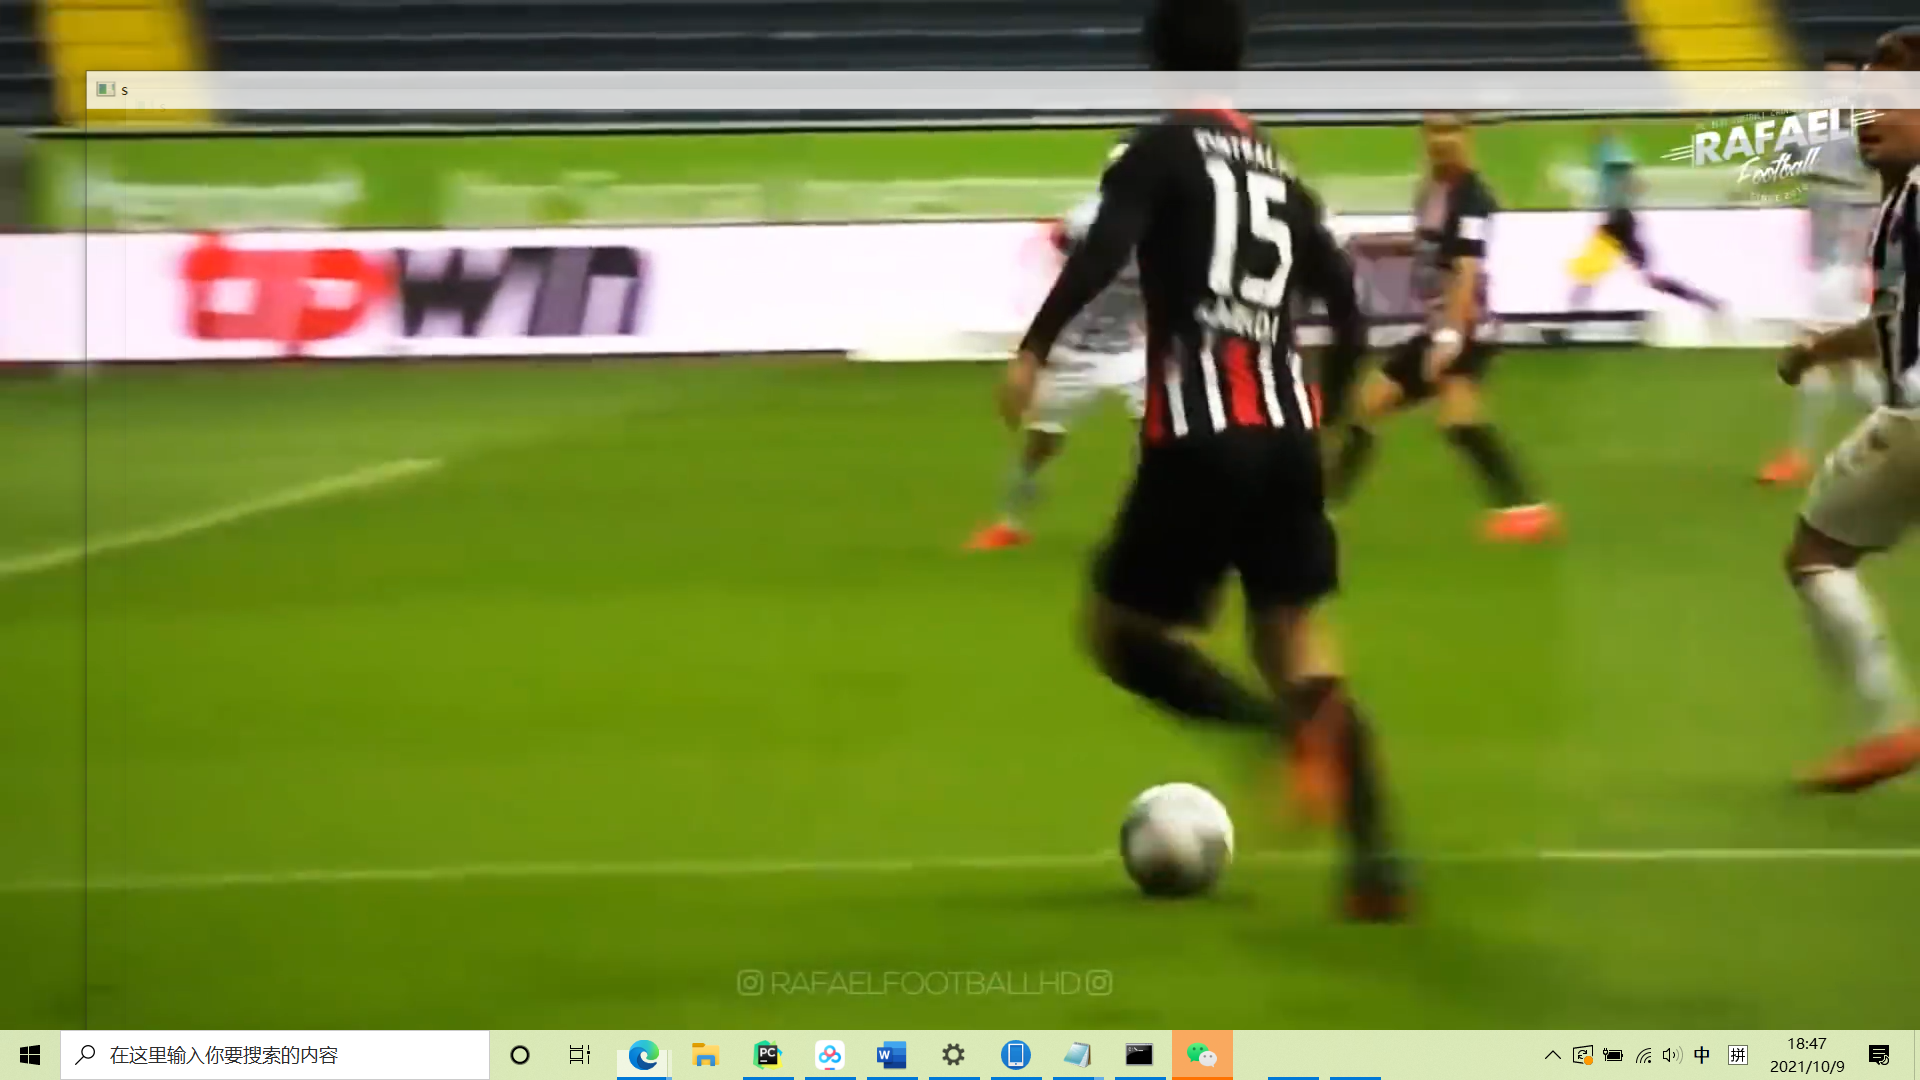ft: (1108, 773, 1244, 894)
